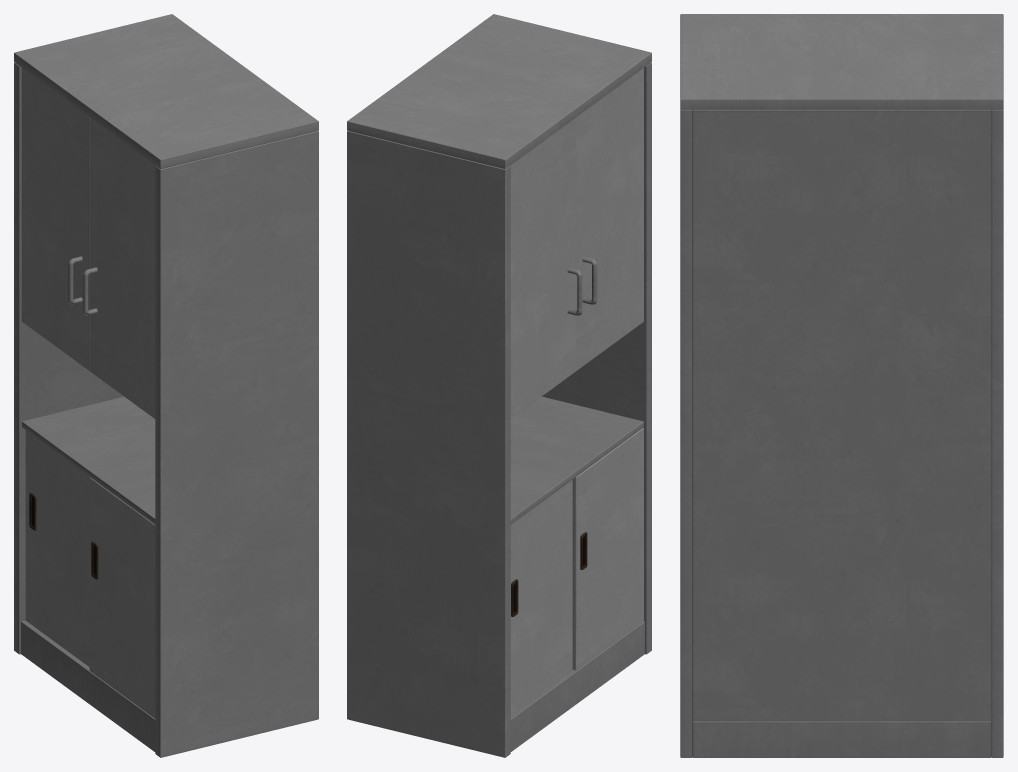
Rendered from SM_Shelves_03_Narrow.fbx.
3 renders of one model, left to right at view 1: azimuth 30°, elevation 25°; view 2: azimuth 150°, elevation 25°; view 3: azimuth 270°, elevation 25°, orthographic. The views are drawn at different scales.
Parts seen in each view (by area): view 1: SM_Shelves_03_Narrow_LOD0; view 2: SM_Shelves_03_Narrow_LOD0; view 3: SM_Shelves_03_Narrow_LOD0.
Boxes of the visible parts, x1,y1,x2,y2 form: SM_Shelves_03_Narrow_LOD0: (14,14,318,757); SM_Shelves_03_Narrow_LOD0: (347,14,651,757); SM_Shelves_03_Narrow_LOD0: (680,14,1003,757).
Size of the model in its own units: 53.46 by 80 by 180.
